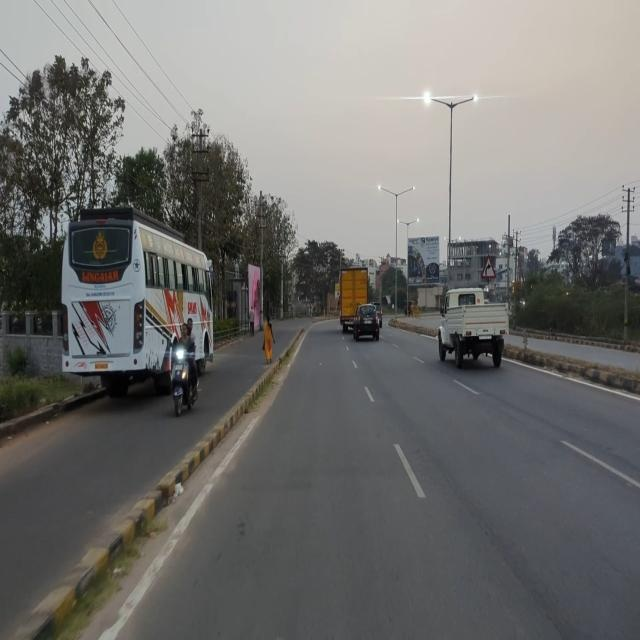bien_nguy_hiem: (482, 254, 497, 280)
